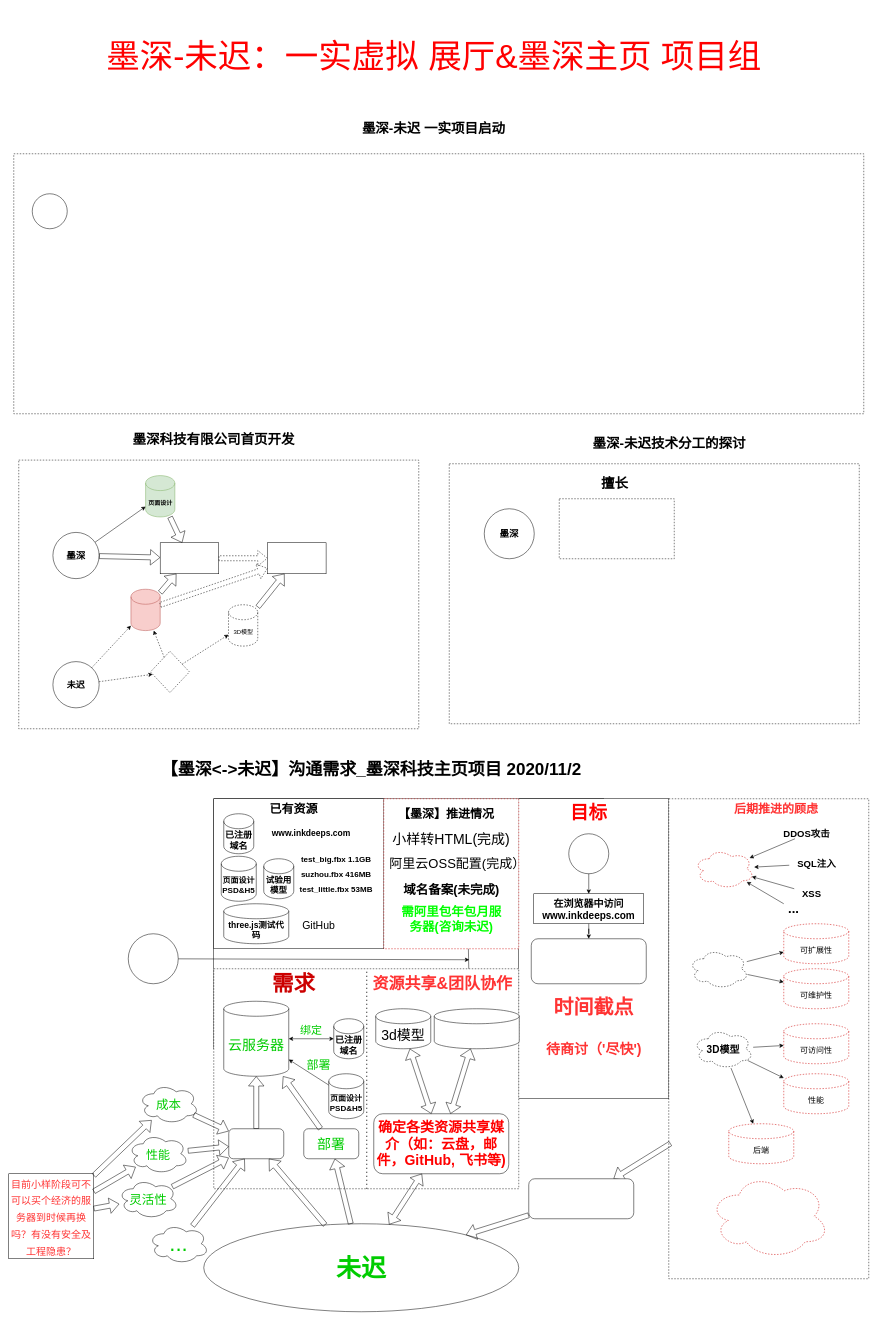
Some shapes in this 878 by 1321 pixel diagram are drawn without their labels. Each missing label, with the box of its shape:
CDN: (150, 651, 189, 693)
UX: (709, 1173, 829, 1259)
一实: (32, 193, 67, 229)
云空间: (130, 589, 160, 631)
咨询: (528, 1178, 634, 1219)
墨深 程总: (568, 833, 609, 874)
墨深web前端: (128, 933, 178, 984)
墨深科技首页(2D）: (160, 542, 219, 574)
墨深科技首页(3D）: (267, 542, 326, 574)
浏览器显示公司主页小样: (531, 938, 646, 984)
程序&文档: (434, 1008, 519, 1049)
网络安全: (694, 848, 754, 889)
软件工程: (688, 948, 749, 989)
选型: (228, 1128, 284, 1159)
